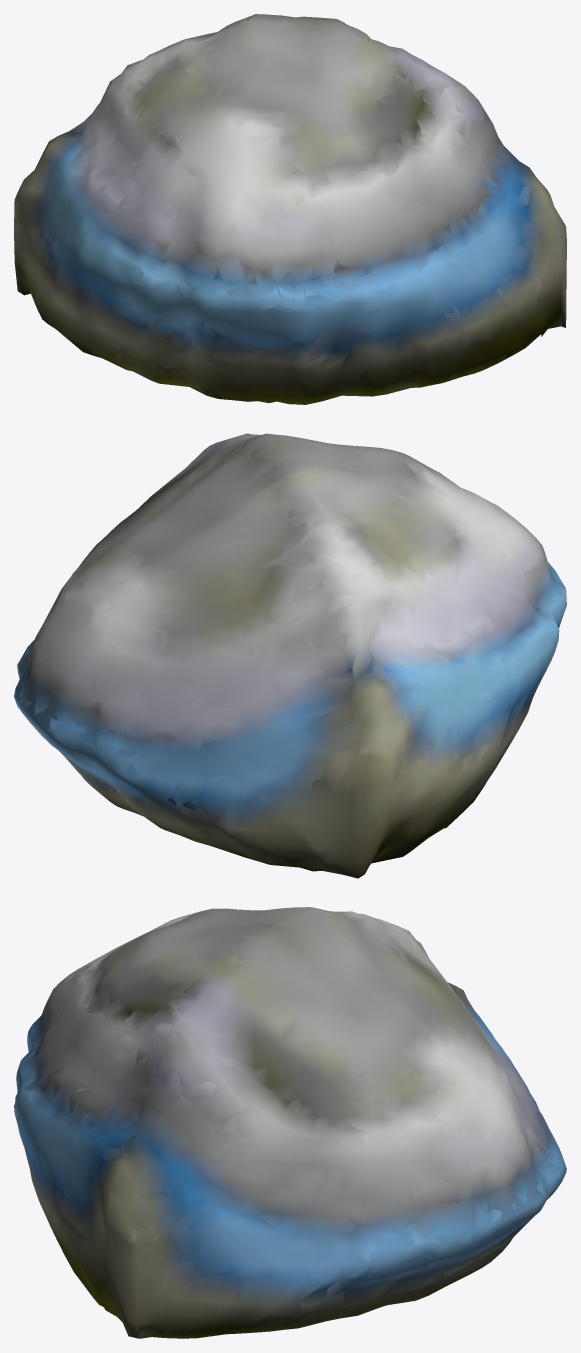
Rendered from allied_patriot_missile.glb.
3 renders of one model, top to bottom at view 1: azimuth 30°, elevation 25°; view 2: azimuth 150°, elevation 25°; view 3: azimuth 270°, elevation 25°, orthographic. The views are drawn at different scales.
Visible parts, largest first — view 1: allied_patriot_missile; view 2: allied_patriot_missile; view 3: allied_patriot_missile.
Boxes of the visible parts, x1,y1,x2,y2 form: allied_patriot_missile: (14,14,566,404); allied_patriot_missile: (14,433,566,878); allied_patriot_missile: (14,907,566,1338).
Bounding box in the file's own units: 2.01 × 1.33 × 2.09.
